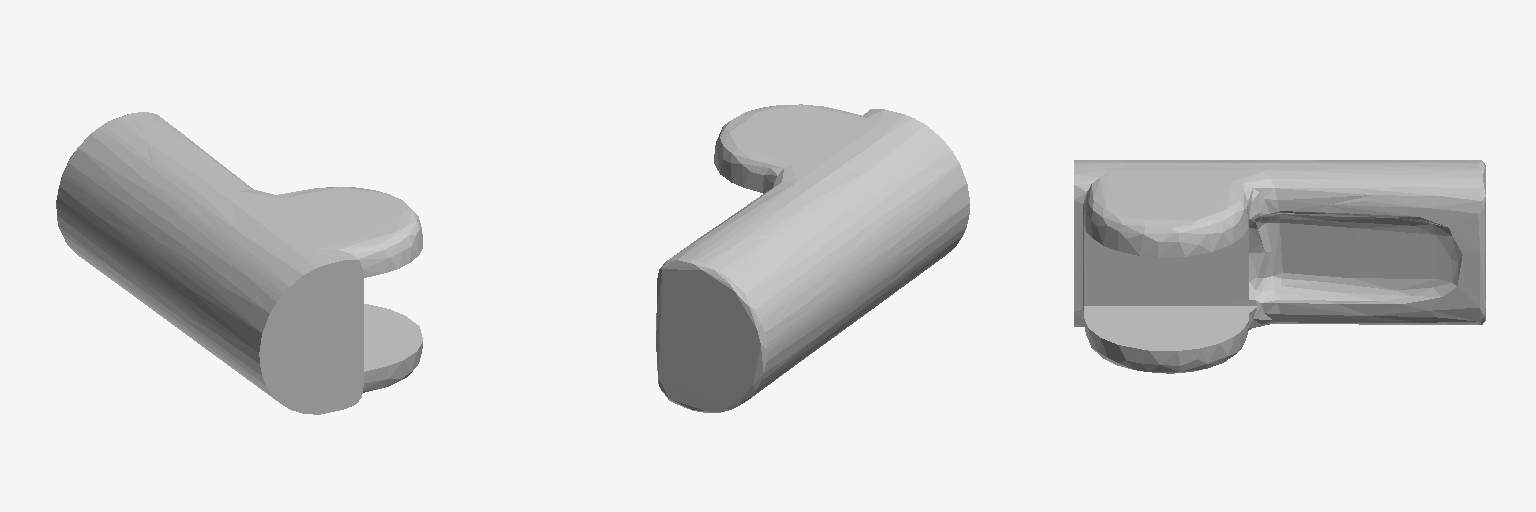
File: shoulder_pan.obj
3 views of the same model, side by side, from view 1: azimuth 30°, elevation 25°; view 2: azimuth 150°, elevation 25°; view 3: azimuth 270°, elevation 25° (orthographic).
Parts seen in each view (by area): view 1: shoulder_pan_M; view 2: shoulder_pan_M; view 3: shoulder_pan_M.
Part boxes in pixels (x1,y1,x2,y2): shoulder_pan_M: (56, 112, 422, 414); shoulder_pan_M: (656, 104, 969, 412); shoulder_pan_M: (1074, 160, 1485, 373).
Size of the model in its own units: 0.3536 by 0.2543 by 0.6329.